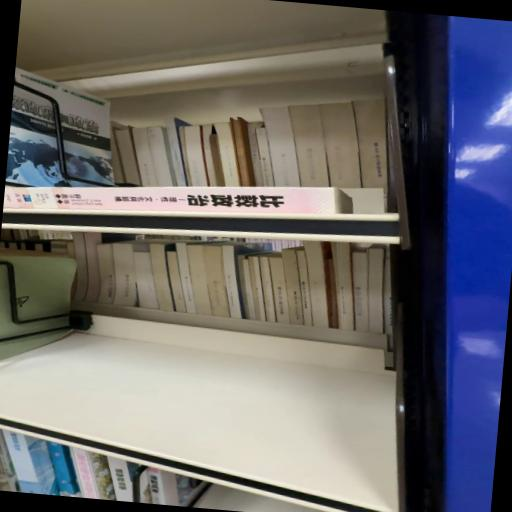flat: (4, 188, 354, 218)
